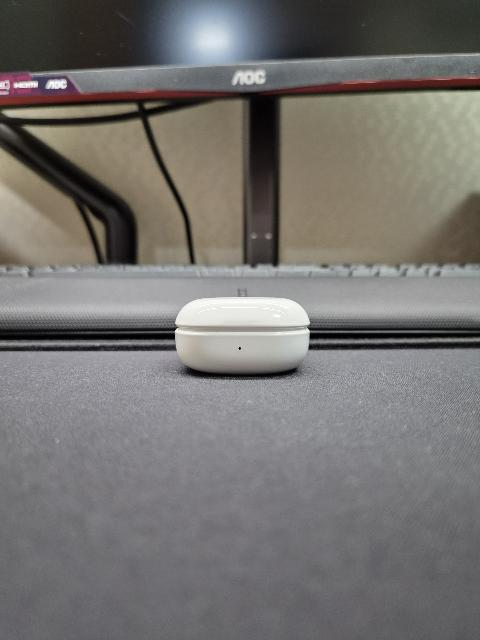earphone_case: (174, 297, 310, 375)
